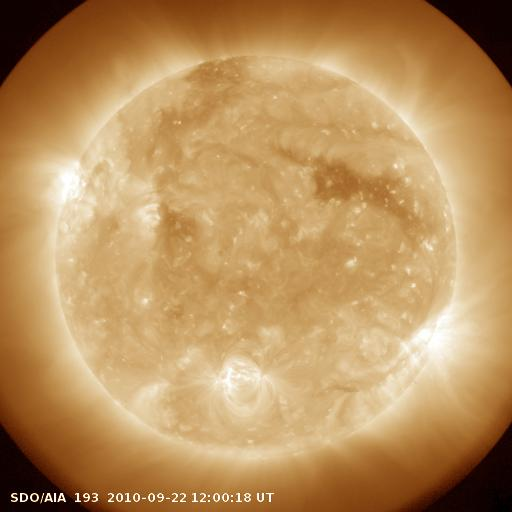coronal_hole: (286, 150, 420, 224), (182, 55, 256, 120)
